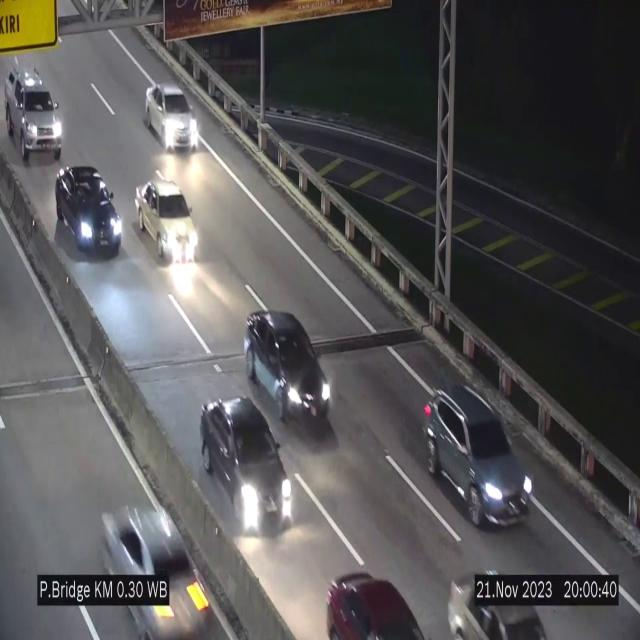Car: (94, 486, 216, 640), (422, 374, 534, 526), (200, 398, 294, 530), (244, 311, 334, 435), (444, 556, 548, 640), (318, 565, 434, 640), (133, 172, 197, 268), (56, 165, 122, 256), (6, 66, 63, 162), (144, 83, 200, 150)
